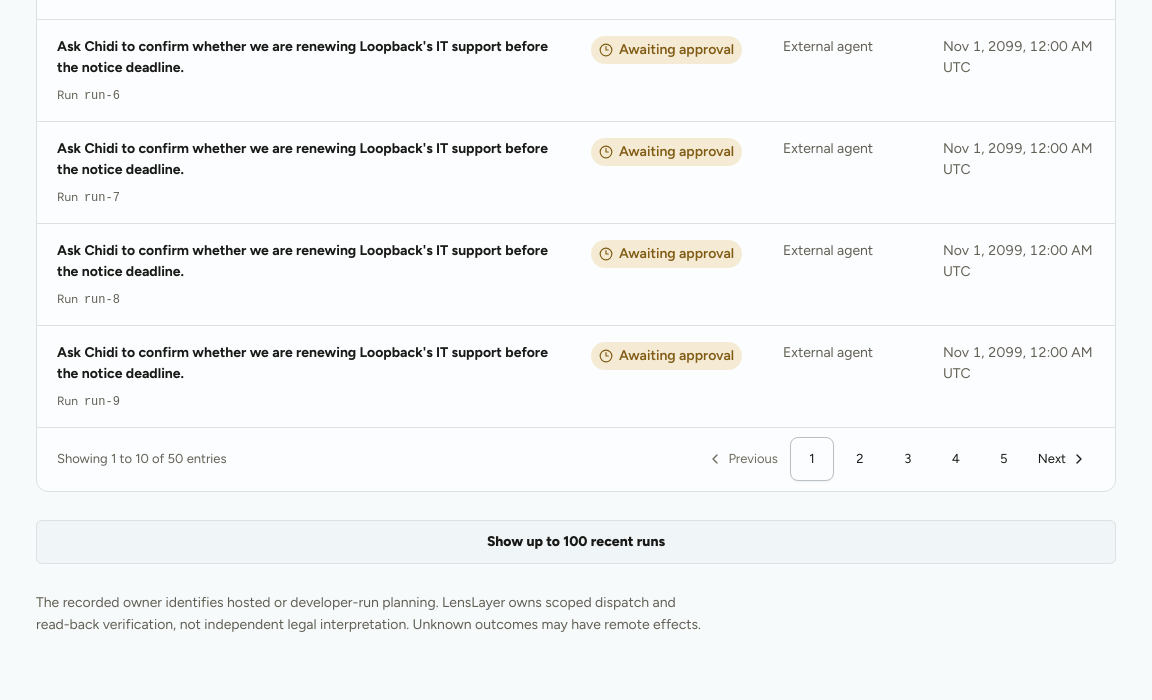
run list workspace states › only expands the bounded query from 50 to 100 on explicit request
(page scrolled)
Click the button "Show up to 100 recent runs" at (576, 542), box [36,520,1116,564]
(page scrolled)
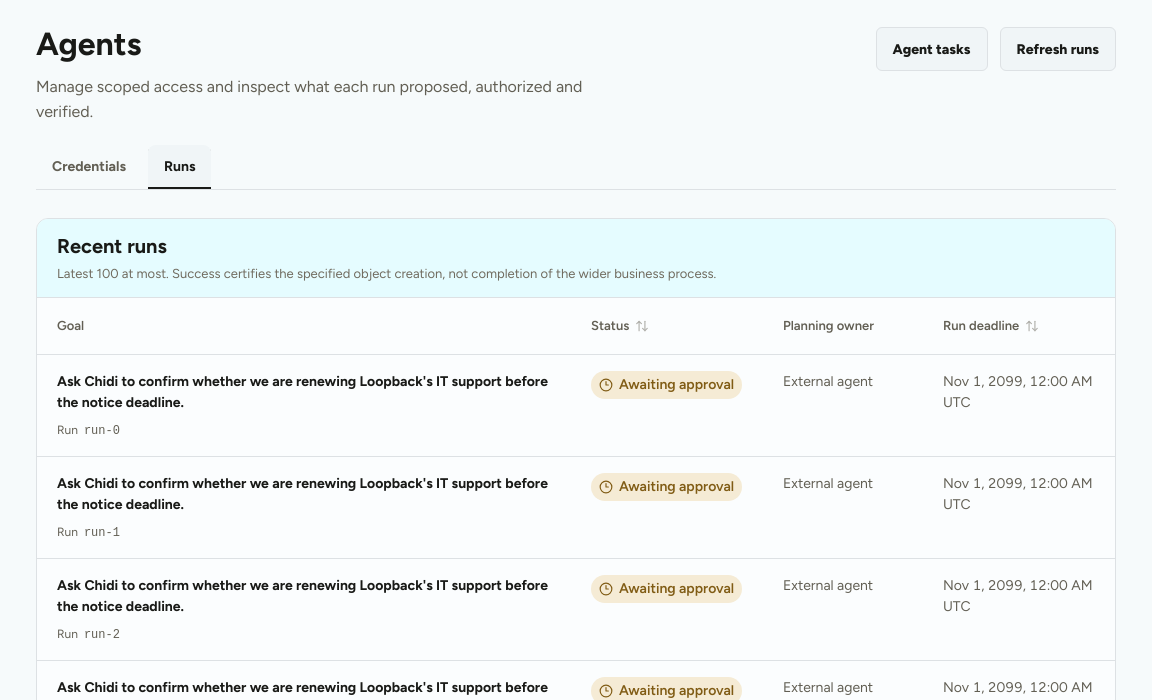
Expected: the button "Show up to 100 recent runs" is gone
